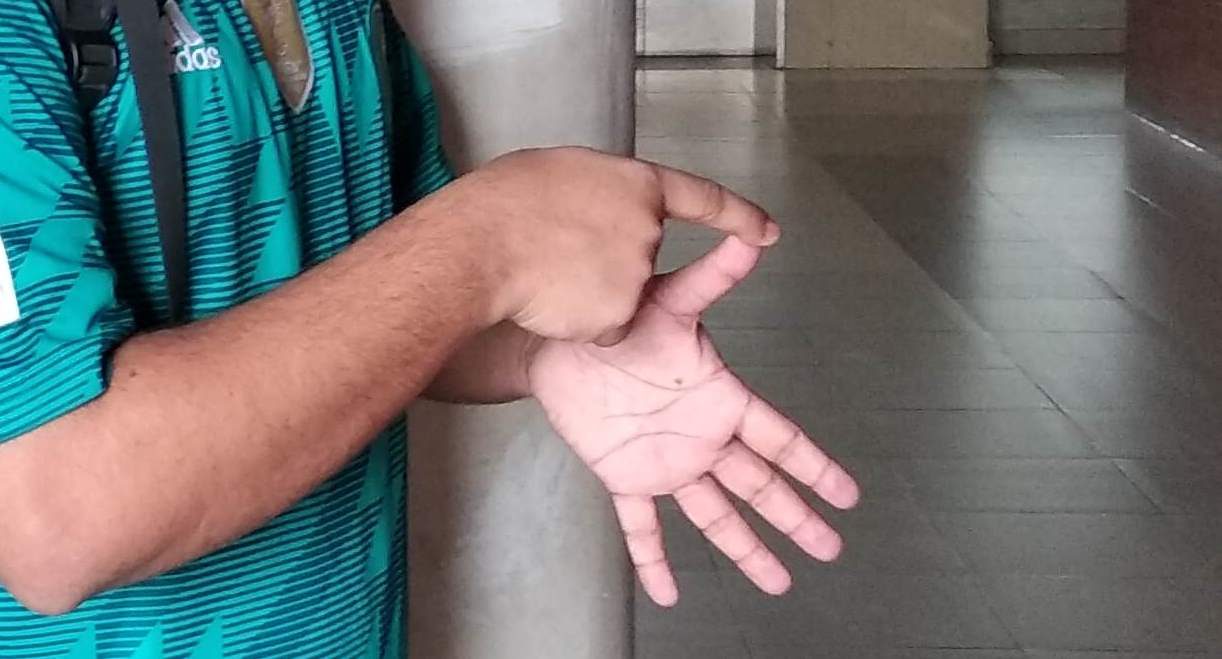a: (552, 157, 850, 648)
